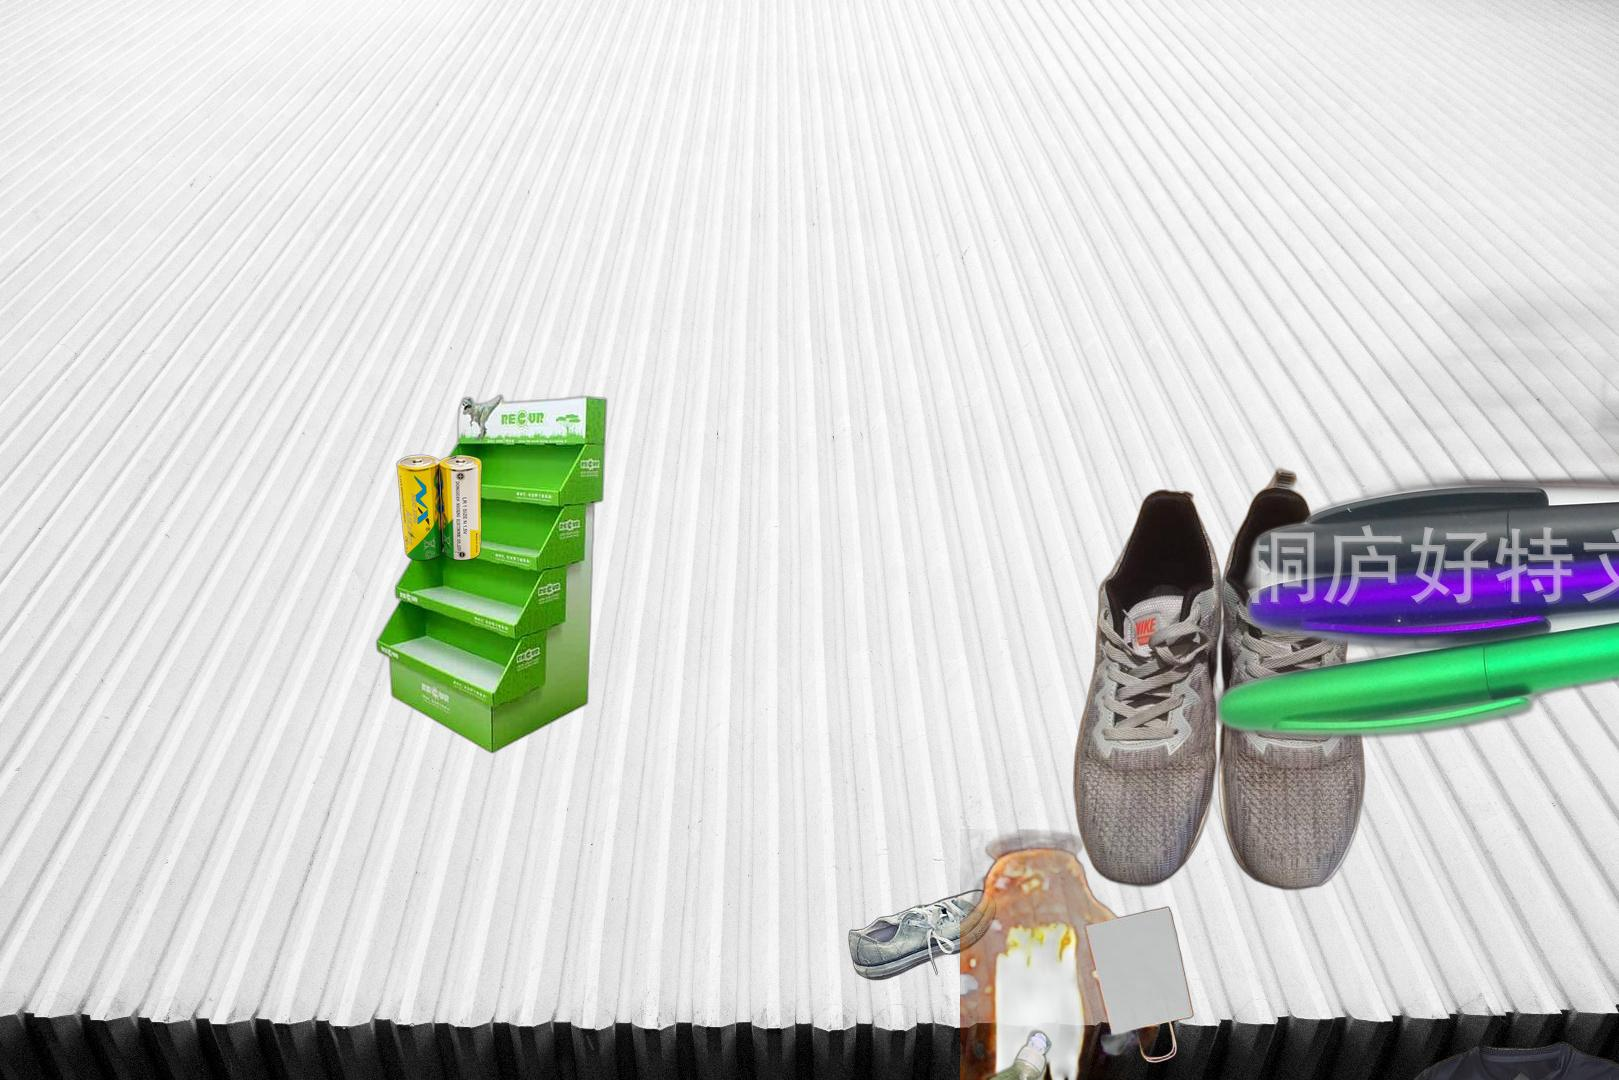battery: (394, 452, 485, 564)
clothes: (1349, 1037, 1619, 1080)
paper-bag: (960, 829, 1196, 1080)
penholder: (1206, 278, 1619, 747)
plastic-bottles: (915, 944, 1403, 1080)
shoes: (1070, 463, 1369, 896), (846, 887, 999, 984)
trashbox-cardboard: (373, 392, 612, 757)
